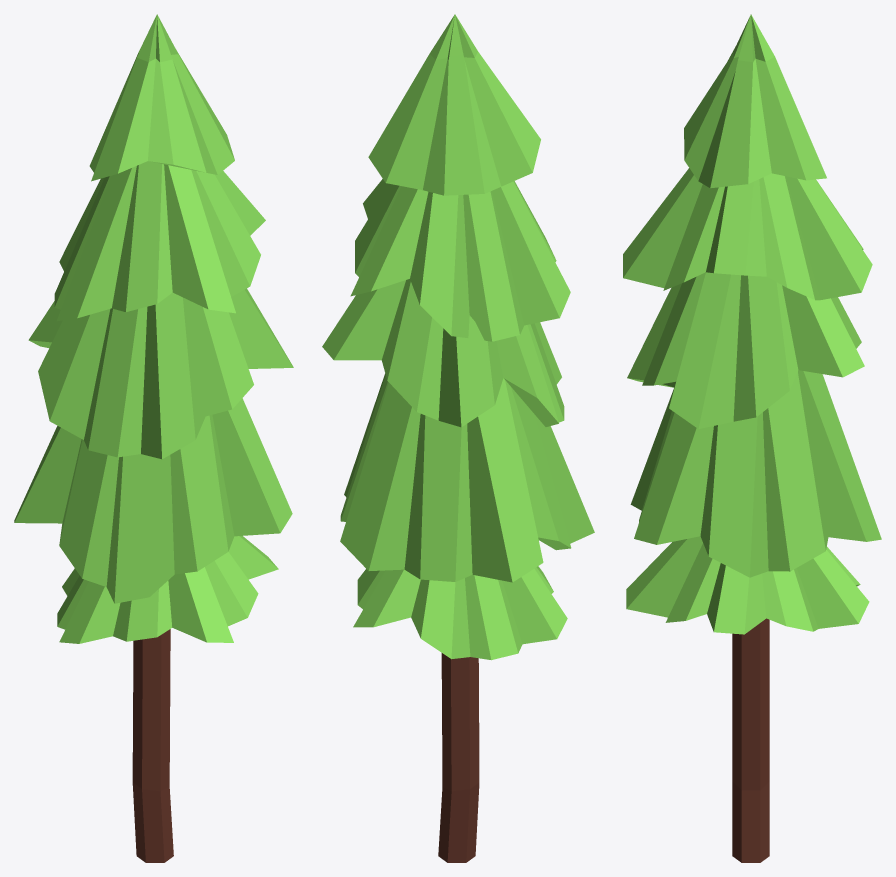
File: SM_PineTree_A.fbx
The picture shows the model from 3 angles, left to right: view 1: azimuth 30°, elevation 25°; view 2: azimuth 150°, elevation 25°; view 3: azimuth 270°, elevation 25°; orthographic projection.
Visible parts, largest first — view 1: SM_PineTree_A; view 2: SM_PineTree_A; view 3: SM_PineTree_A.
Part boxes in pixels (x1,y1,x2,y2): SM_PineTree_A: (14, 14, 293, 862); SM_PineTree_A: (322, 14, 594, 862); SM_PineTree_A: (623, 14, 881, 862).
Size of the model in its own units: 148 by 524 by 146.
